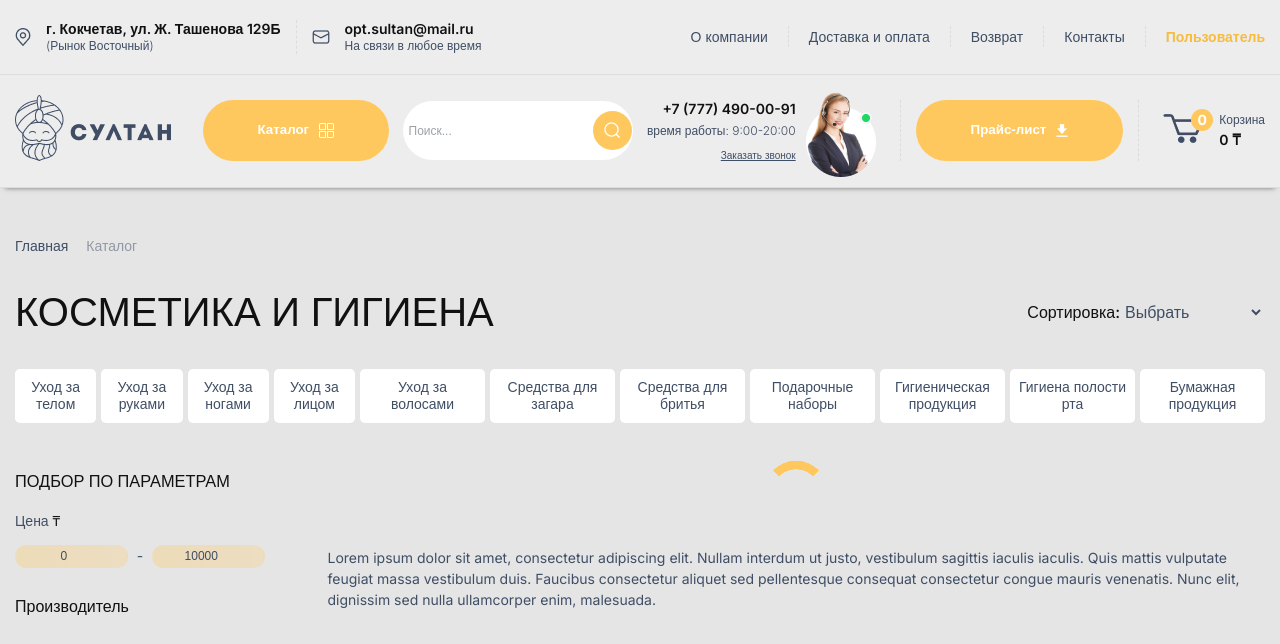
Test case: <App/> › Router test
Click the link with test id "basket-link".
click(1153, 111)  # box [1153, 111, 1265, 150]
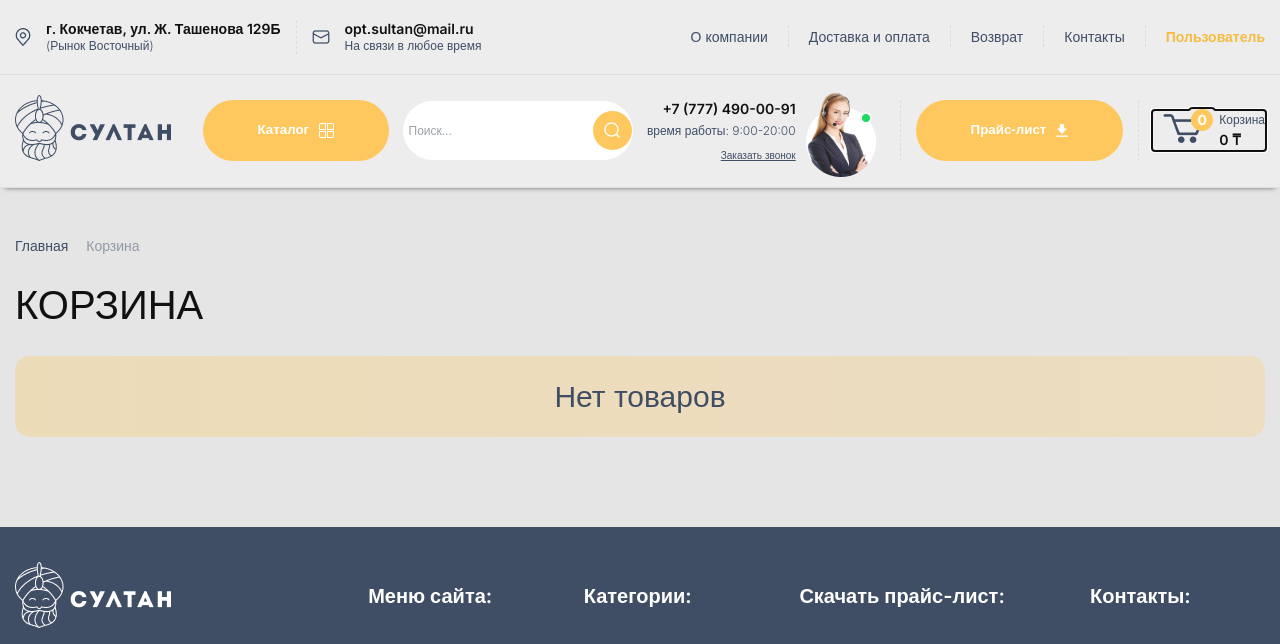
expect the heading "Корзина" is shown: met, box [15, 280, 203, 329]
Click the link with test id "main-link".
click(42, 245)  # box [15, 237, 68, 254]
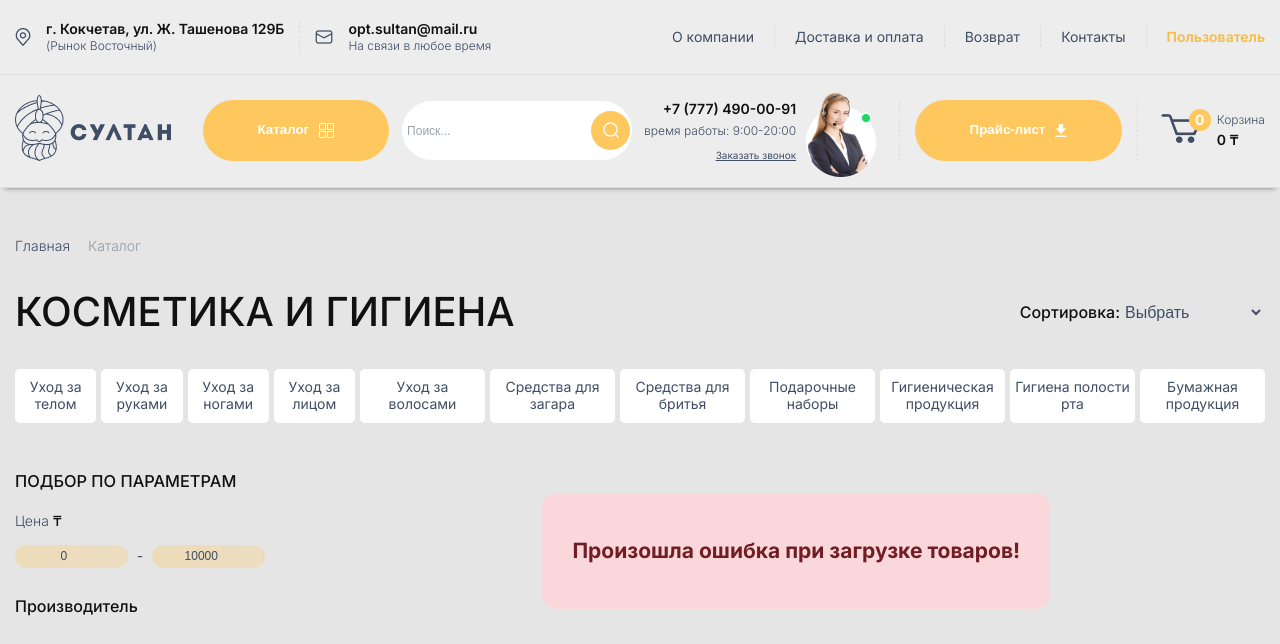
expect the heading "Косметика и гигиена" is shown: met, box [15, 288, 515, 336]
